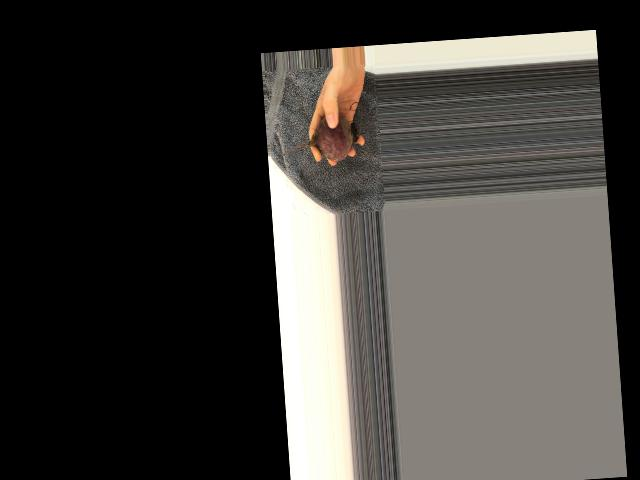beet: (278, 111, 359, 165)
